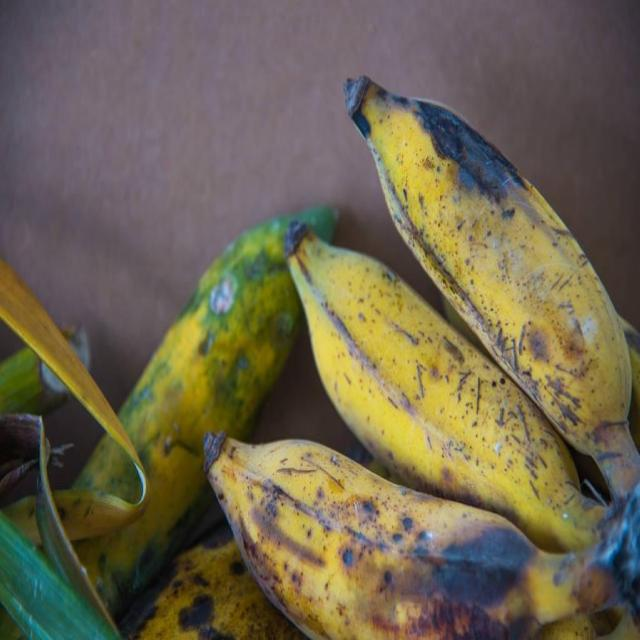Wet Waste: (66, 68, 640, 639)
